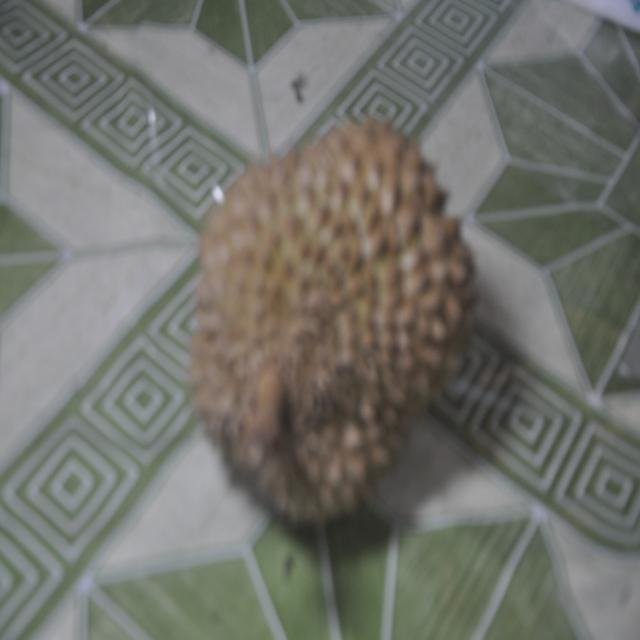mature: (170, 101, 486, 560)
